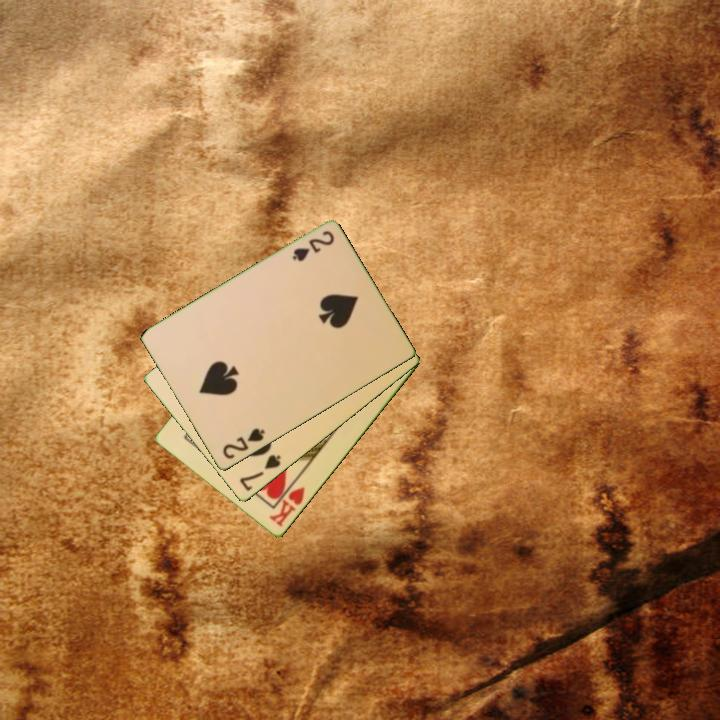2s: (219, 425, 268, 462), (289, 228, 337, 265)
7s: (236, 451, 284, 495)
Kh: (266, 476, 308, 530)
